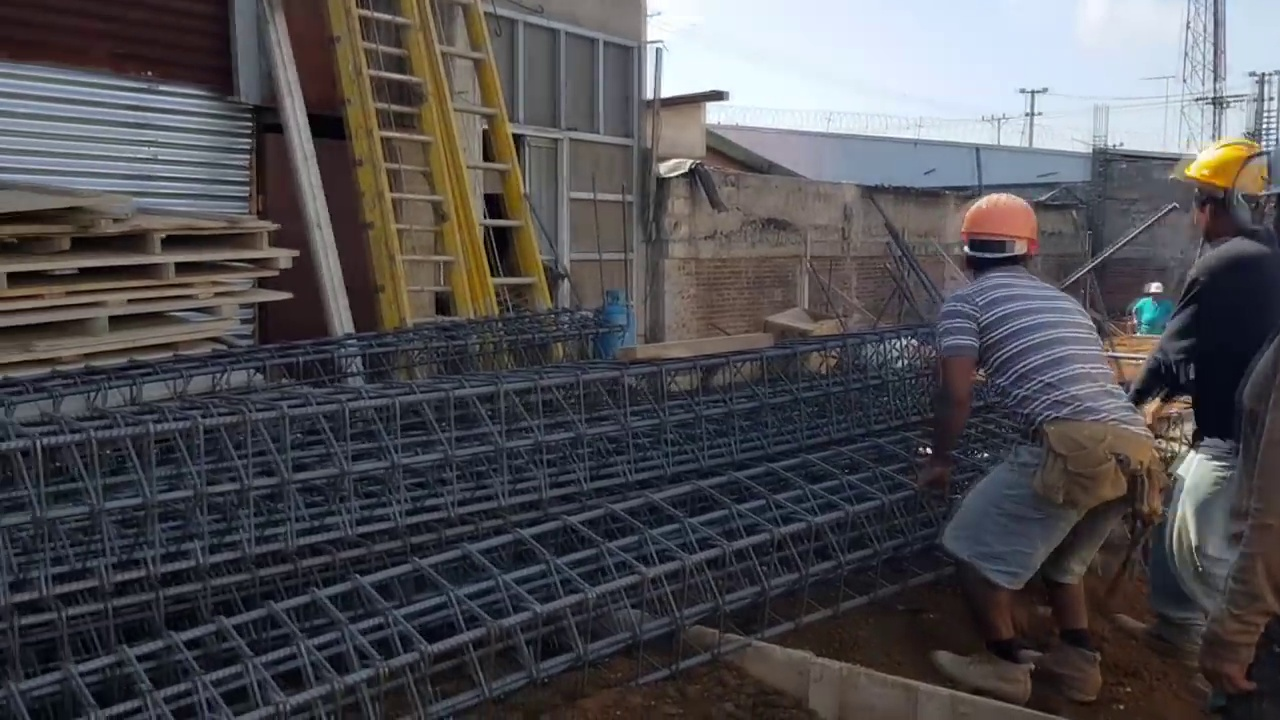helmet: (1173, 137, 1270, 200), (960, 190, 1042, 261), (1148, 282, 1164, 294)
helmet-on: (1174, 134, 1275, 246), (957, 191, 1042, 285), (1148, 282, 1165, 301)
person: (913, 190, 1152, 707), (1130, 134, 1279, 717), (1133, 280, 1175, 336)
